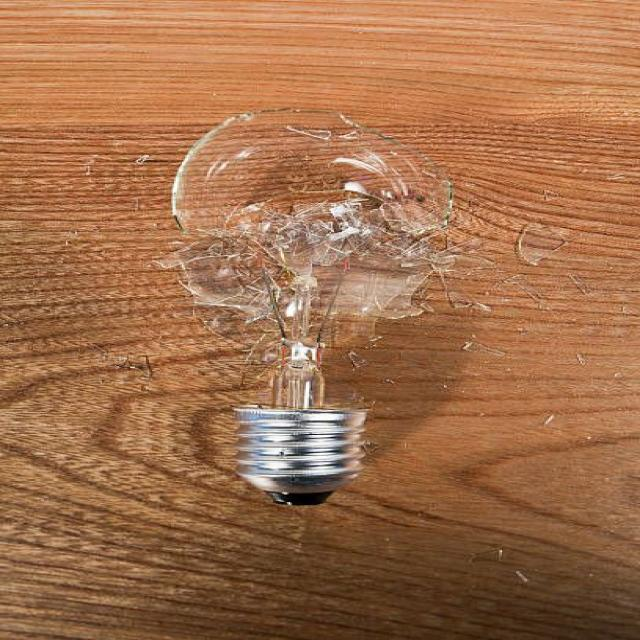electronic: (165, 106, 456, 506), (230, 349, 372, 506)
